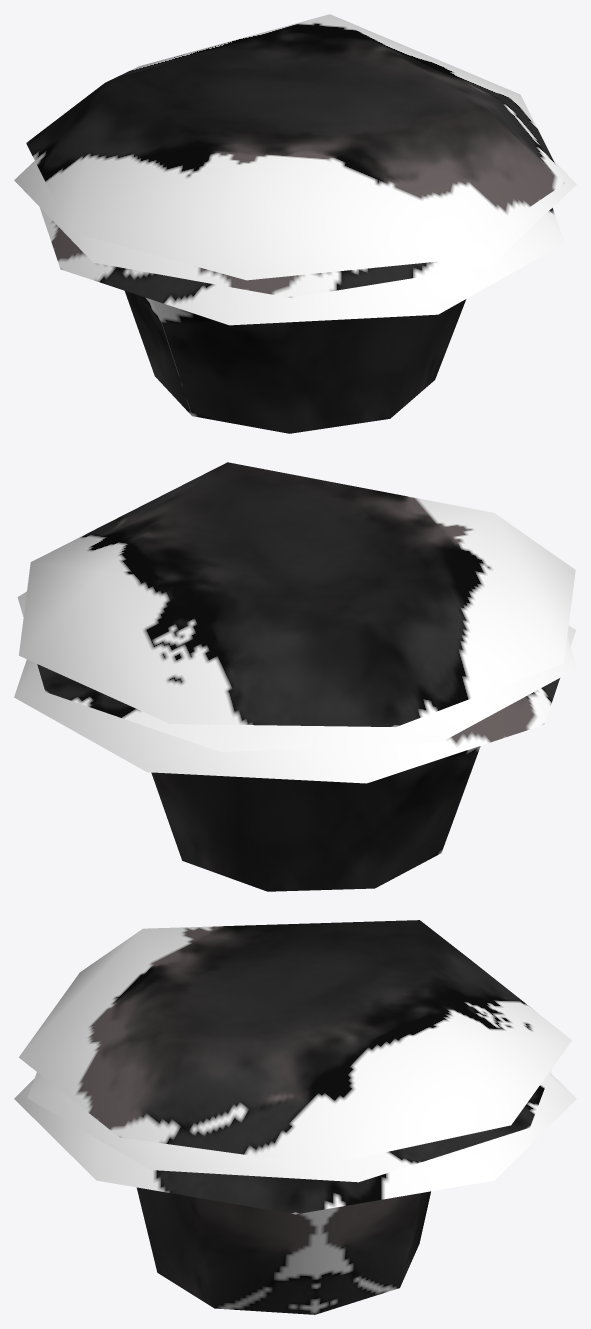
File: Thunder Cloud.obj
The picture shows the model from 3 angles, top to bottom: view 1: azimuth 30°, elevation 25°; view 2: azimuth 150°, elevation 25°; view 3: azimuth 270°, elevation 25°; orthographic projection. The views are drawn at different scales.
Parts seen in each view (by area): view 1: Regroup00; view 2: Regroup00; view 3: Regroup00.
Boxes of the visible parts, bbox=[...] form: Regroup00: bbox=[14, 14, 576, 433]; Regroup00: bbox=[14, 462, 576, 891]; Regroup00: bbox=[14, 920, 576, 1314].
Bounding box in the file's own units: 6.03 × 3.34 × 6.15.
